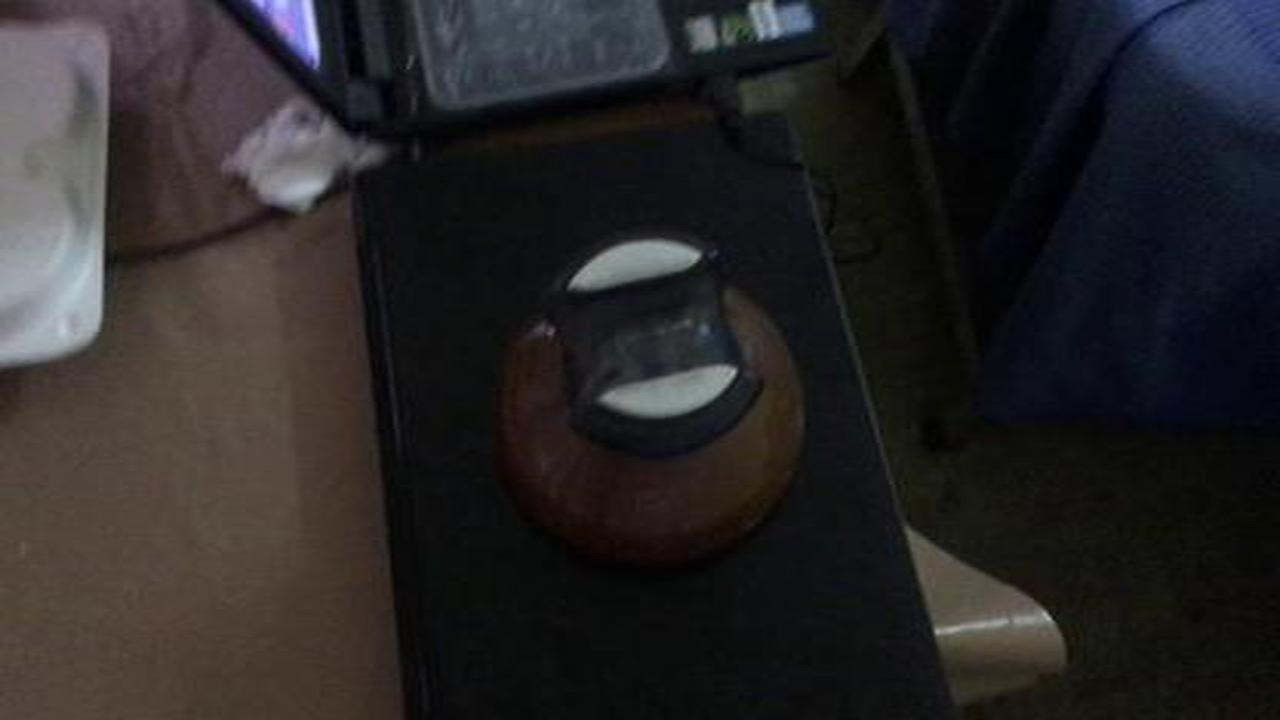insulator_pin: (477, 212, 837, 591)
